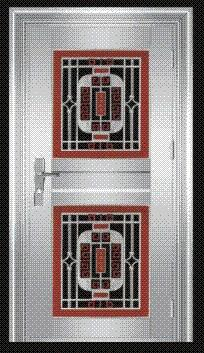door: (21, 15, 183, 345)
